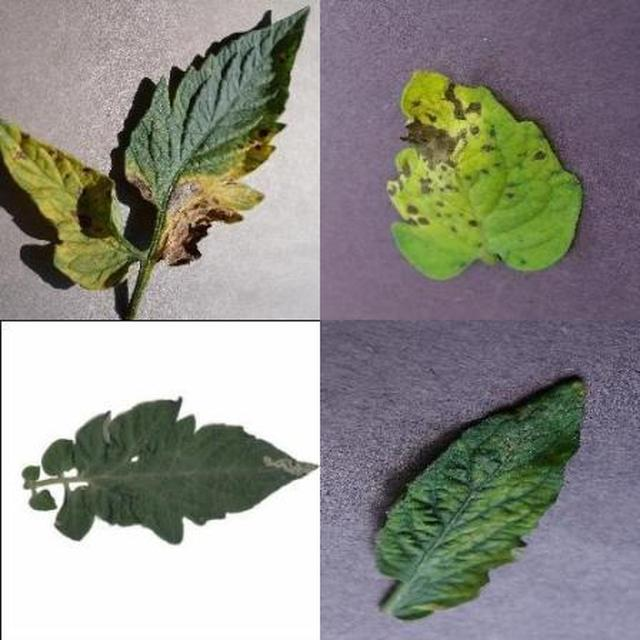Early Blight Leaf: (264, 196, 640, 640)
